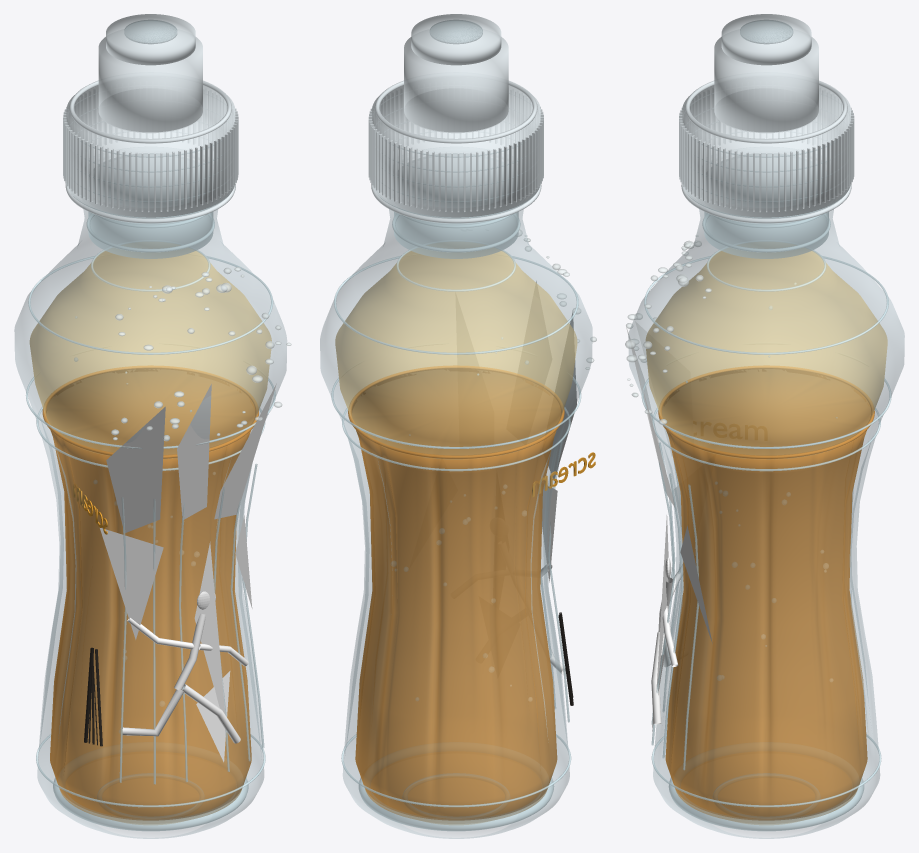
File: scream_bottle_model.glb
3 views of the same model, side by side, from view 1: azimuth 30°, elevation 25°; view 2: azimuth 150°, elevation 25°; view 3: azimuth 270°, elevation 25° (orthographic).
Parts seen in each view (by area): view 1: clear PET ergonomic sports drink bottle shell, orange drink body shaped by the transparent bottle, pale amber upper drink fading toward the neck, ribbed screw cap ring for sport bottle, push pull sport drinking spout, transparent neck cylinder inside cap, direct printed white angular energy mark.00, flat sealed top of sport spout, direct printed white angular energy mark.03, direct printed white angular energy mark.01, heavy transparent base punt outer ring, direct printed white angular energy mark.02 (+19 smaller); view 2: clear PET ergonomic sports drink bottle shell, orange drink body shaped by the transparent bottle, pale amber upper drink fading toward the neck, ribbed screw cap ring for sport bottle, push pull sport drinking spout, transparent neck cylinder inside cap, flat sealed top of sport spout, heavy transparent base punt outer ring, direct printed white angular energy mark.00, direct printed white angular energy mark.01, crisp orange liquid level line, cap top bead (+11 smaller); view 3: clear PET ergonomic sports drink bottle shell, orange drink body shaped by the transparent bottle, pale amber upper drink fading toward the neck, ribbed screw cap ring for sport bottle, push pull sport drinking spout, transparent neck cylinder inside cap, flat sealed top of sport spout, heavy transparent base punt outer ring, direct printed white angular energy mark.00, crisp orange liquid level line, cap top bead, molded bottle seam and refraction ring.03 (+12 smaller).
Boxes of the visible parts, left/top/right/bottom form: clear PET ergonomic sports drink bottle shell: left=14, top=209, right=286, bottom=838; orange drink body shaped by the transparent bottle: left=46, top=368, right=255, bottom=824; pale amber upper drink fading toward the neck: left=29, top=251, right=271, bottom=458; ribbed screw cap ring for sport bottle: left=66, top=85, right=235, bottom=217; push pull sport drinking spout: left=98, top=37, right=202, bottom=132; transparent neck cylinder inside cap: left=88, top=153, right=213, bottom=258; direct printed white angular energy mark.00: left=106, top=406, right=165, bottom=532; flat sealed top of sport spout: left=106, top=14, right=195, bottom=65; direct printed white angular energy mark.03: left=100, top=528, right=163, bottom=639; direct printed white angular energy mark.01: left=177, top=384, right=211, bottom=519; heavy transparent base punt outer ring: left=53, top=777, right=248, bottom=831; direct printed white angular energy mark.02: left=214, top=383, right=276, bottom=519; clear PET ergonomic sports drink bottle shell: left=320, top=209, right=592, bottom=838; orange drink body shaped by the transparent bottle: left=351, top=368, right=560, bottom=824; pale amber upper drink fading toward the neck: left=335, top=251, right=577, bottom=459; ribbed screw cap ring for sport bottle: left=372, top=85, right=540, bottom=217; push pull sport drinking spout: left=404, top=37, right=508, bottom=132; transparent neck cylinder inside cap: left=394, top=153, right=518, bottom=258; flat sealed top of sport spout: left=411, top=14, right=501, bottom=65; heavy transparent base punt outer ring: left=358, top=777, right=554, bottom=831; direct printed white angular energy mark.00: left=548, top=312, right=576, bottom=478; direct printed white angular energy mark.01: left=518, top=281, right=551, bottom=384; crisp orange liquid level line: left=348, top=365, right=564, bottom=458; cap top bead: left=375, top=80, right=537, bottom=143; clear PET ergonomic sports drink bottle shell: left=628, top=209, right=904, bottom=838; orange drink body shaped by the transparent bottle: left=662, top=368, right=871, bottom=824; pale amber upper drink fading toward the neck: left=645, top=251, right=887, bottom=459; ribbed screw cap ring for sport bottle: left=682, top=85, right=850, bottom=217; push pull sport drinking spout: left=714, top=37, right=818, bottom=132; transparent neck cylinder inside cap: left=704, top=153, right=828, bottom=258; flat sealed top of sport spout: left=721, top=14, right=811, bottom=65; heavy transparent base punt outer ring: left=668, top=778, right=864, bottom=831; direct printed white angular energy mark.00: left=635, top=321, right=689, bottom=456; crisp orange liquid level line: left=658, top=365, right=874, bottom=458; cap top bead: left=685, top=80, right=847, bottom=143; molded bottle seam and refraction ring.03: left=644, top=256, right=888, bottom=354.
Size of what is drawn, in the model's own units: 1.51 by 4.69 by 1.52.
